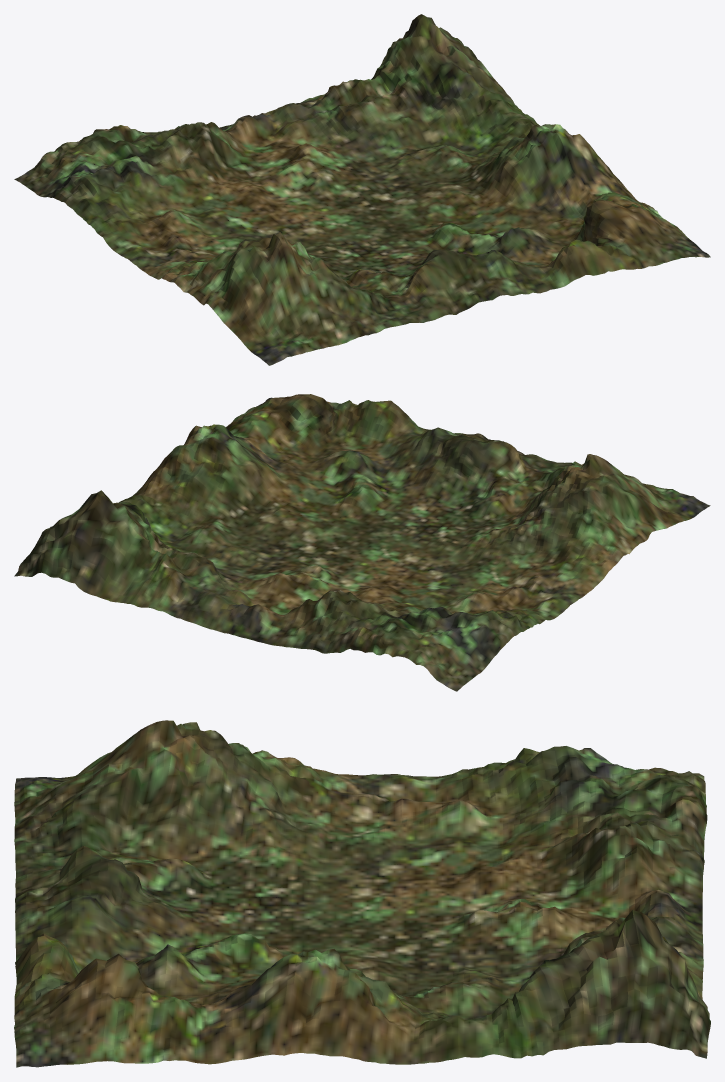
The model's file is terrain.glb.
The picture shows the model from 3 angles, top to bottom: view 1: azimuth 30°, elevation 25°; view 2: azimuth 150°, elevation 25°; view 3: azimuth 270°, elevation 25°; orthographic projection. The views are drawn at different scales.
Visible parts, largest first — view 1: Plane; view 2: Plane; view 3: Plane.
Part boxes in pixels (x1,y1,x2,y2): Plane: [14, 14, 710, 365]; Plane: [14, 394, 710, 691]; Plane: [14, 720, 710, 1067].
Size of the model in its own units: 64.95 by 12.54 by 64.96.
Materials: 1 (1 with a texture image).
